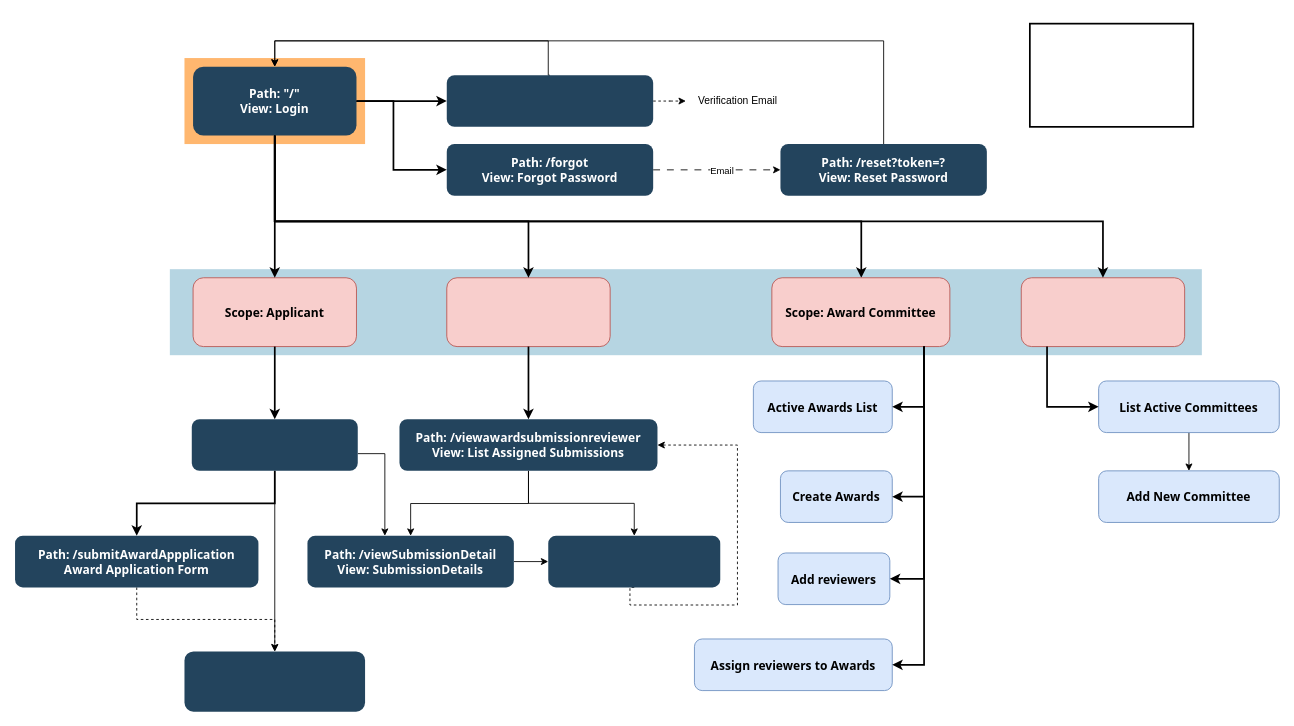
Some shapes in this 1294 by 726 pixel diagram are drawn without their labels. Here are the shapes that lost their labels. From the top down, the centre of each, then its label:
At (x=1111, y=74): "Legend Dark Blue: Existing Page Light Blue: New Page".
At (x=549, y=100): "Path: /signup View: Applicant Sign Up".
At (x=528, y=312): "Scope: Reviewer".
At (x=1102, y=312): "Scope: Admin".
At (x=274, y=444): "Path: /viewSubmission View: Submissions List".
At (x=634, y=561): "Path: /assigngrade.php View: Assign Score Form".
At (x=274, y=681): "DownloadApplciation".
